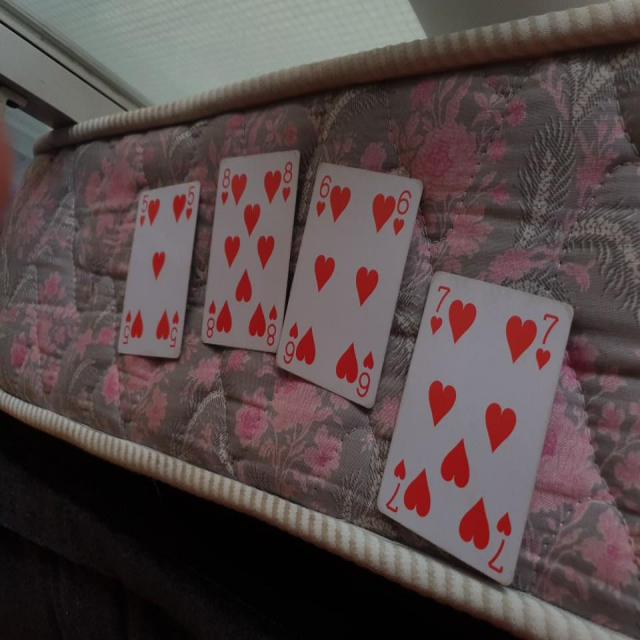5 Hearts: (107, 174, 206, 377)
6 Hearts: (276, 161, 425, 416)
7 Hearts: (373, 270, 576, 590)
8 Hearts: (203, 148, 296, 350)
